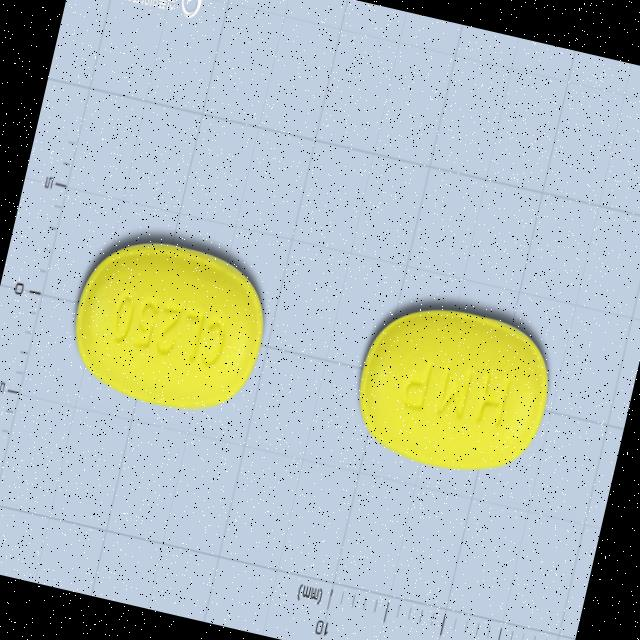Clari - 500mg: (55, 221, 280, 429), (341, 288, 564, 490)
